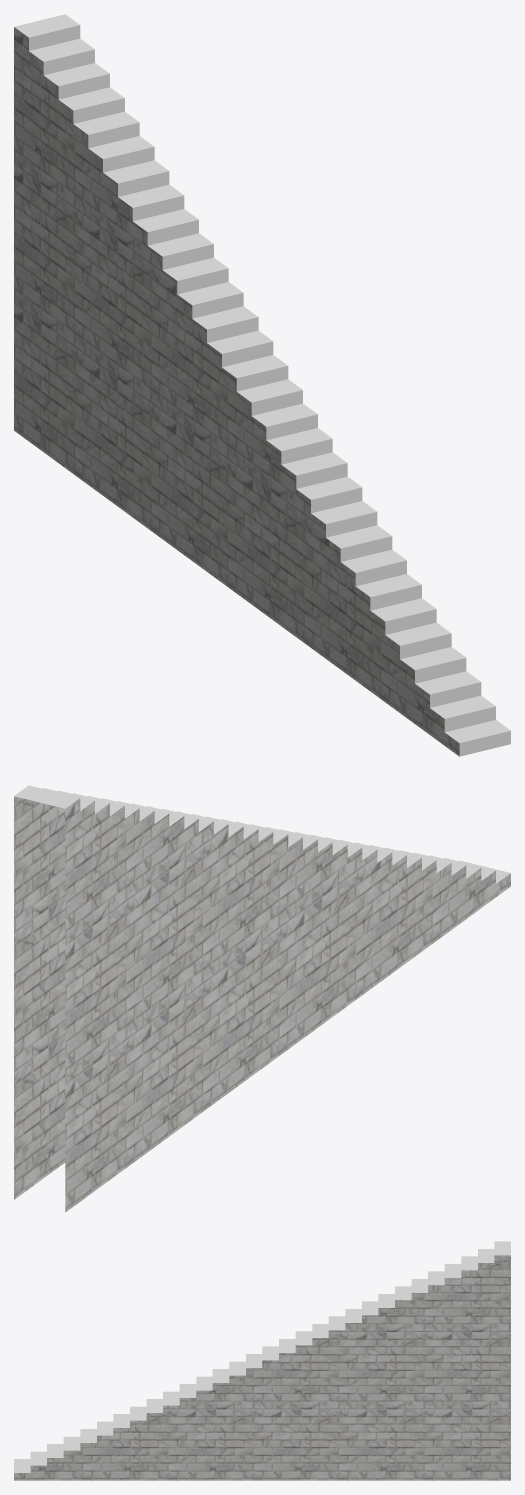
Rendered from BETA Marble Stairs.glb.
3 views of the same model, one above another, from view 1: azimuth 30°, elevation 25°; view 2: azimuth 150°, elevation 25°; view 3: azimuth 270°, elevation 25° (orthographic). The views are drawn at different scales.
Visible parts, largest first — view 1: Stairs; view 2: Stairs; view 3: Stairs.
Boxes of the visible parts, box(x1,y1,x2,y2) form: Stairs: box(14, 14, 510, 756); Stairs: box(14, 785, 510, 1212); Stairs: box(14, 1241, 510, 1480).
Size of the model in its own units: 2 by 15 by 30.
Materials: 2 (1 with a texture image).
